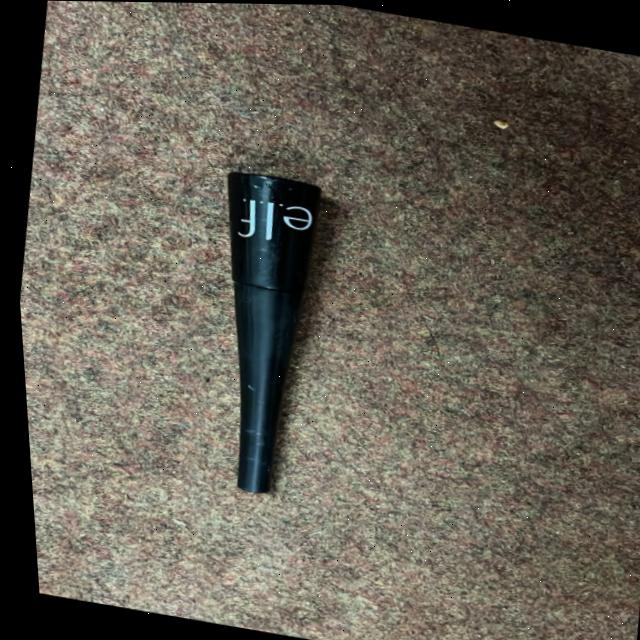eye liner: (115, 115, 361, 519)
